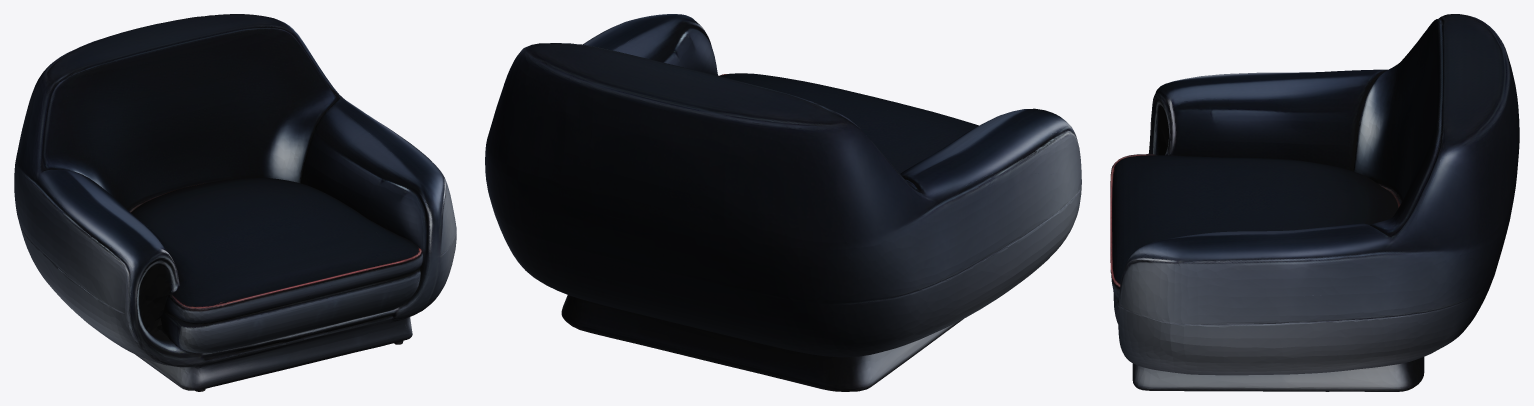
File: futuristic_bluish_sofa.glb
3 views of the same model, side by side, from view 1: azimuth 30°, elevation 25°; view 2: azimuth 150°, elevation 25°; view 3: azimuth 270°, elevation 25° (orthographic). The views are drawn at different scales.
Visible parts, largest first — view 1: furniutre sofa 1_0; view 2: furniutre sofa 1_0; view 3: furniutre sofa 1_0.
Boxes of the visible parts, bbox=[...] form: furniutre sofa 1_0: bbox=[14, 14, 456, 391]; furniutre sofa 1_0: bbox=[485, 14, 1081, 391]; furniutre sofa 1_0: bbox=[1110, 14, 1519, 391].
Size of the model in its own units: 1.64 by 1.04 by 1.45.
1 material, 1 textured.
